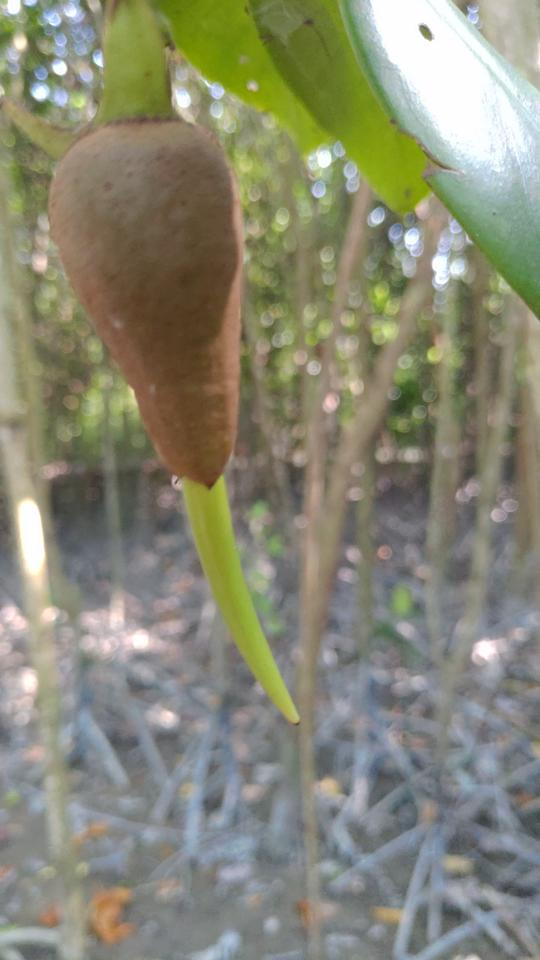mentah: (26, 78, 334, 741)
